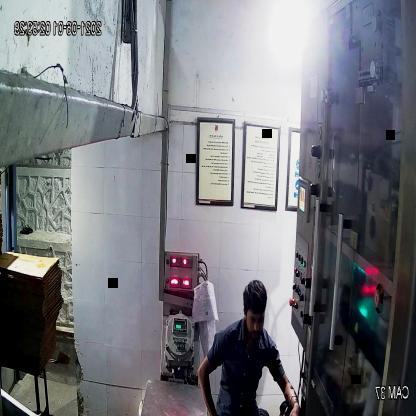no_goggles: (244, 308, 266, 328)
